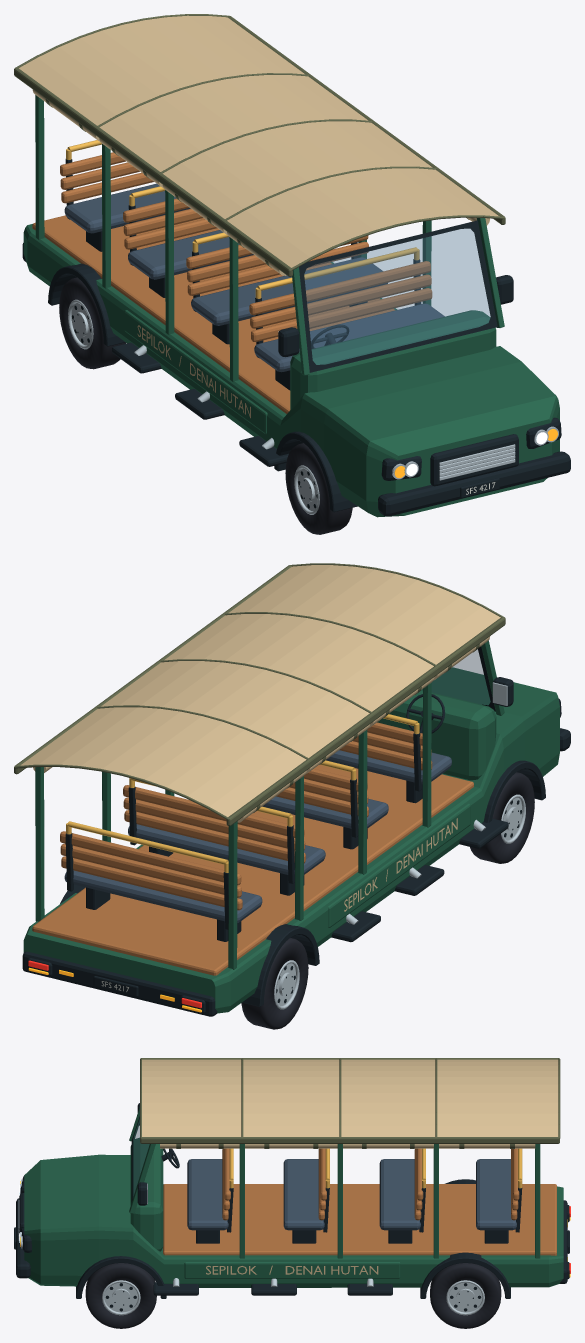
3 renders of one model, top to bottom at view 1: azimuth 30°, elevation 25°; view 2: azimuth 150°, elevation 25°; view 3: azimuth 270°, elevation 25°, orthographic. The views are drawn at different scales.
Parts seen in each view (by area): view 1: Sepilok Forest Shuttle; view 2: Sepilok Forest Shuttle; view 3: Sepilok Forest Shuttle.
Part boxes in pixels (<box>): Sepilok Forest Shuttle: <box>14,14,570,534</box>; Sepilok Forest Shuttle: <box>14,563,570,1029</box>; Sepilok Forest Shuttle: <box>14,1058,570,1328</box>.
Size of the model in its own units: 2.47 by 2.68 by 6.49.
